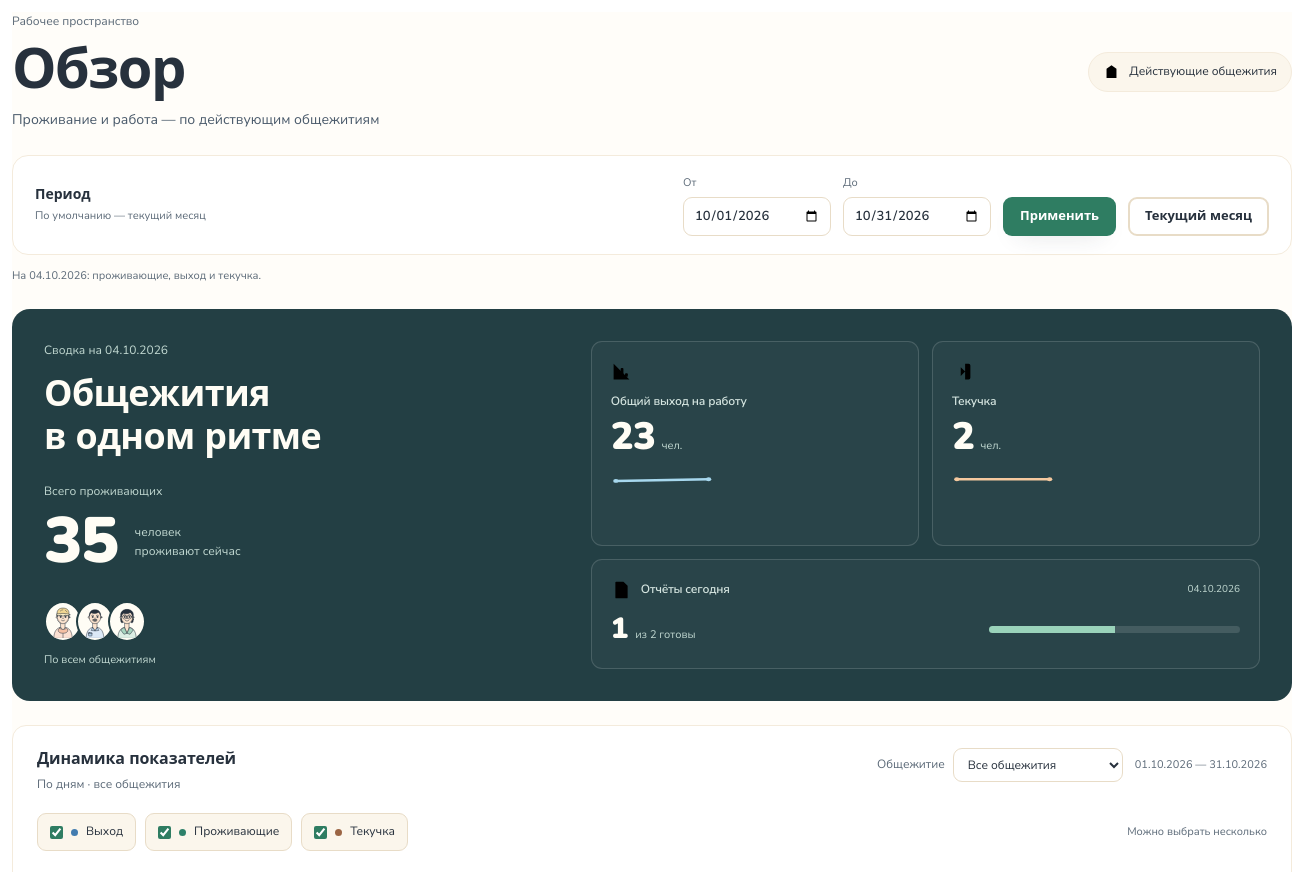
дашборд › применяет включительный период к загрузчику и графику, сбрасывает его на текущий месяц
Type "2026-09-30" into the date field labelled "От". click: (757, 216)
box: [683,197,831,236]
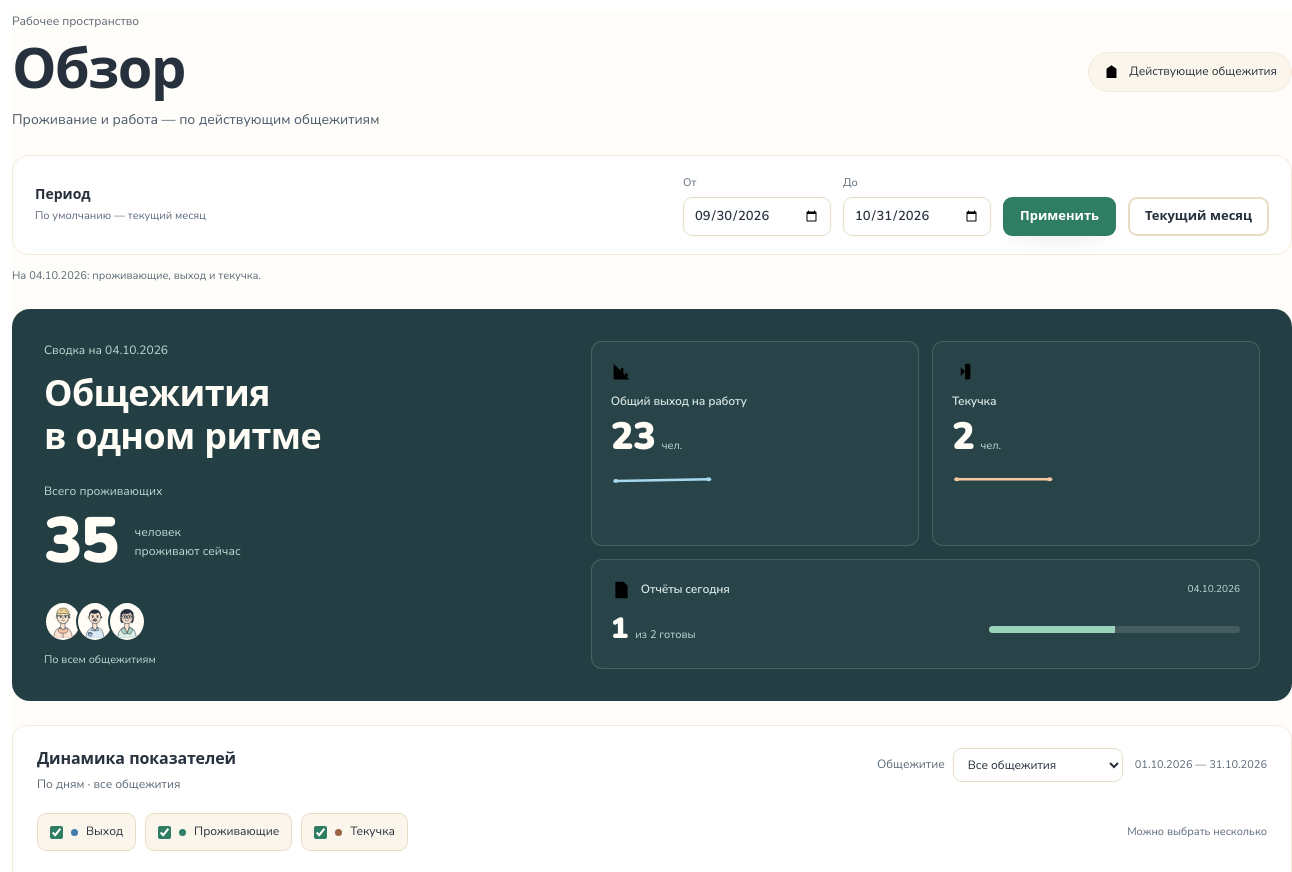
Type "2026-09-30" into the date field labelled "До". click: (917, 216)
box: [843,197,991,236]
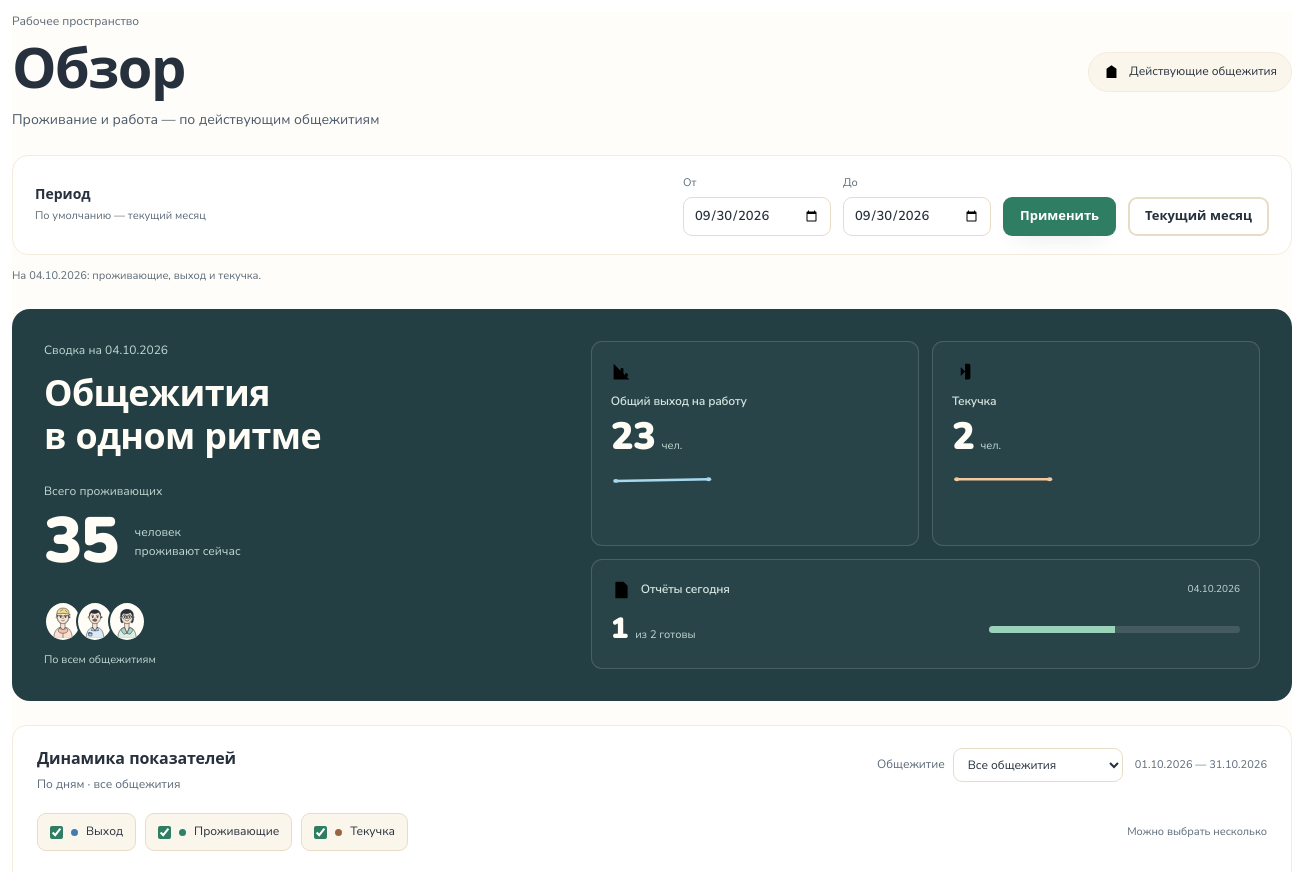
Click the button "Применить". click: (1060, 216)
box: [1003,197,1116,236]
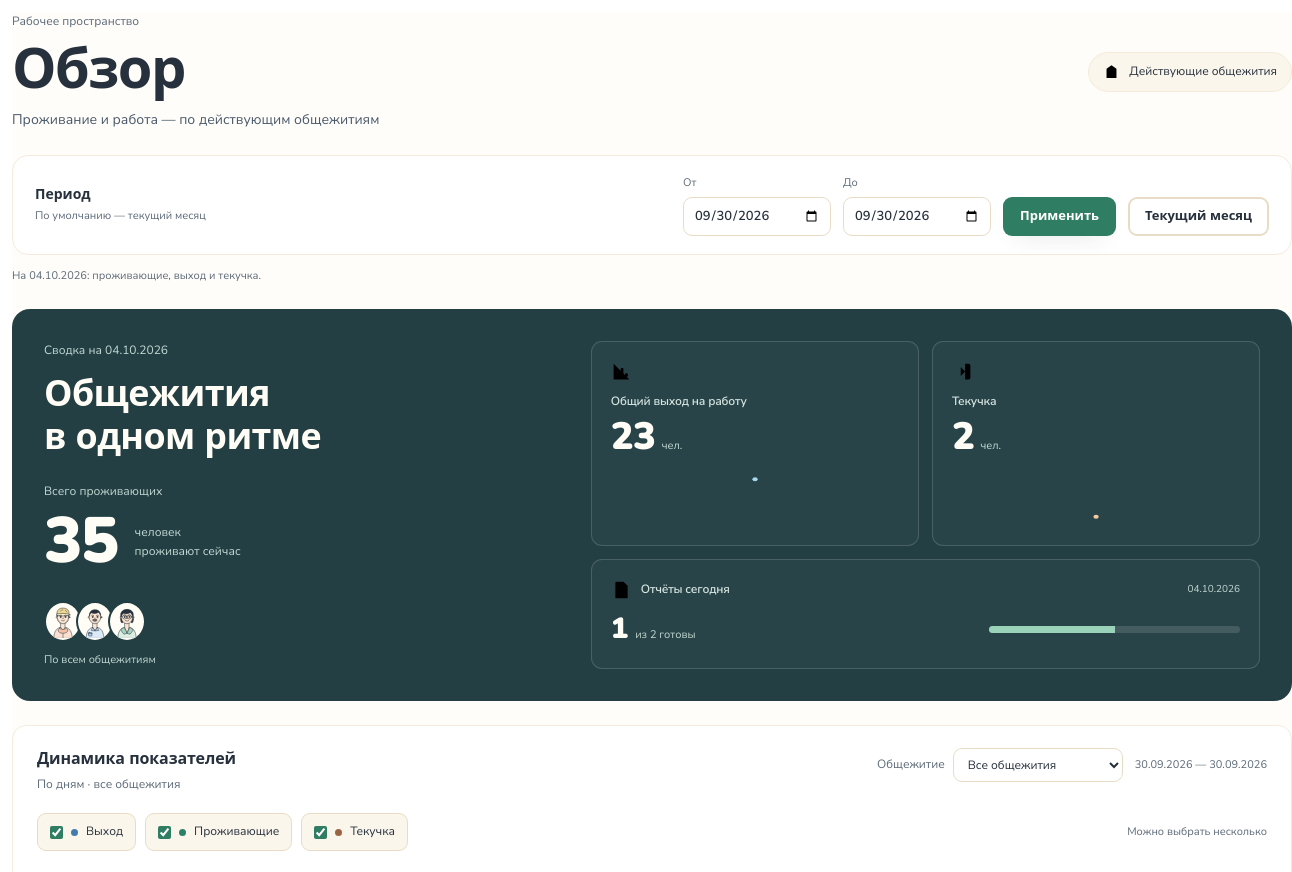
Click the button "Текущий месяц". click: (1199, 216)
box: [1128,197,1269,236]
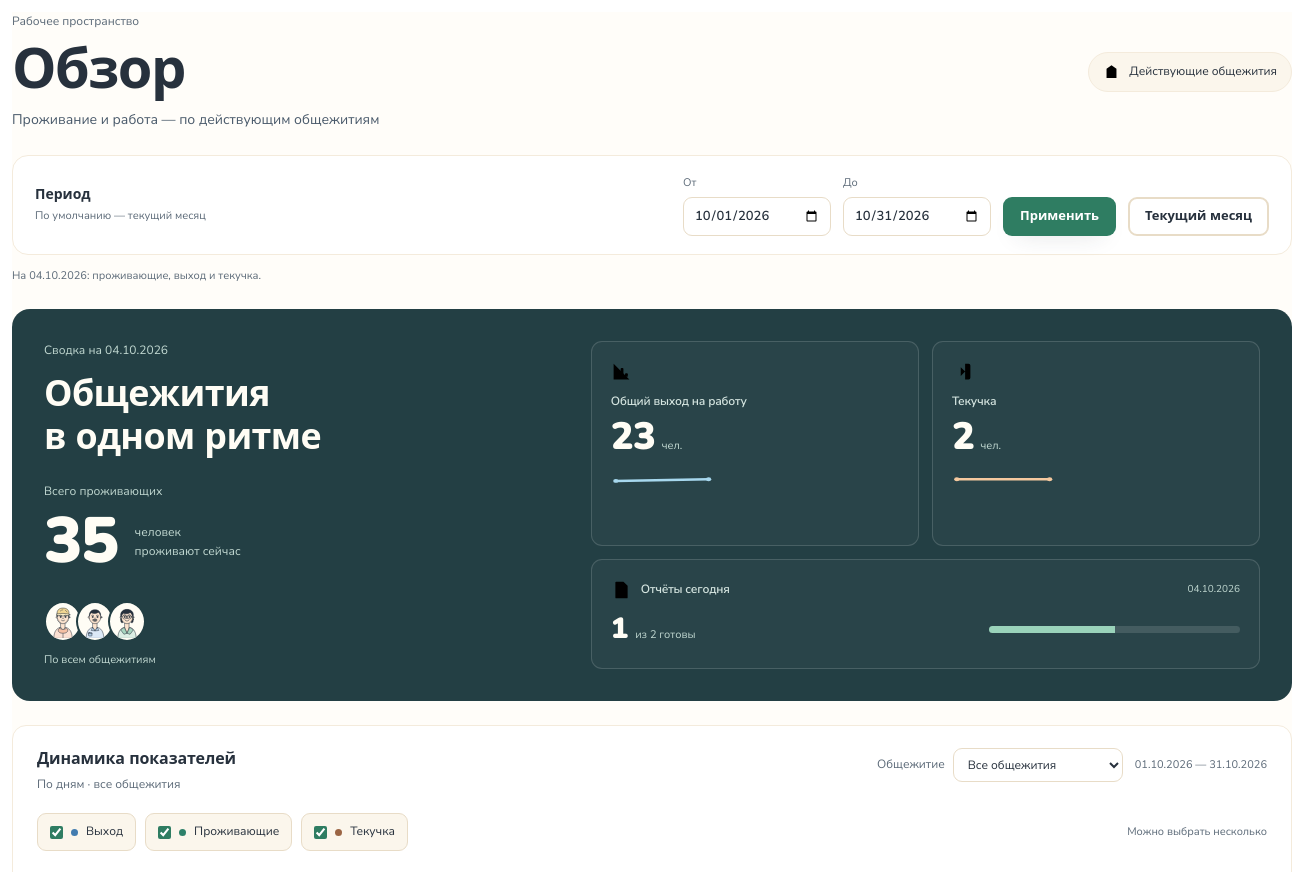
Expected: the date field labelled "От" holds "2026-10-01", [683,197,831,236]
Expected: the date field labelled "До" holds "2026-10-31", [843,197,991,236]
